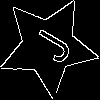J: (23, 21, 74, 66)
